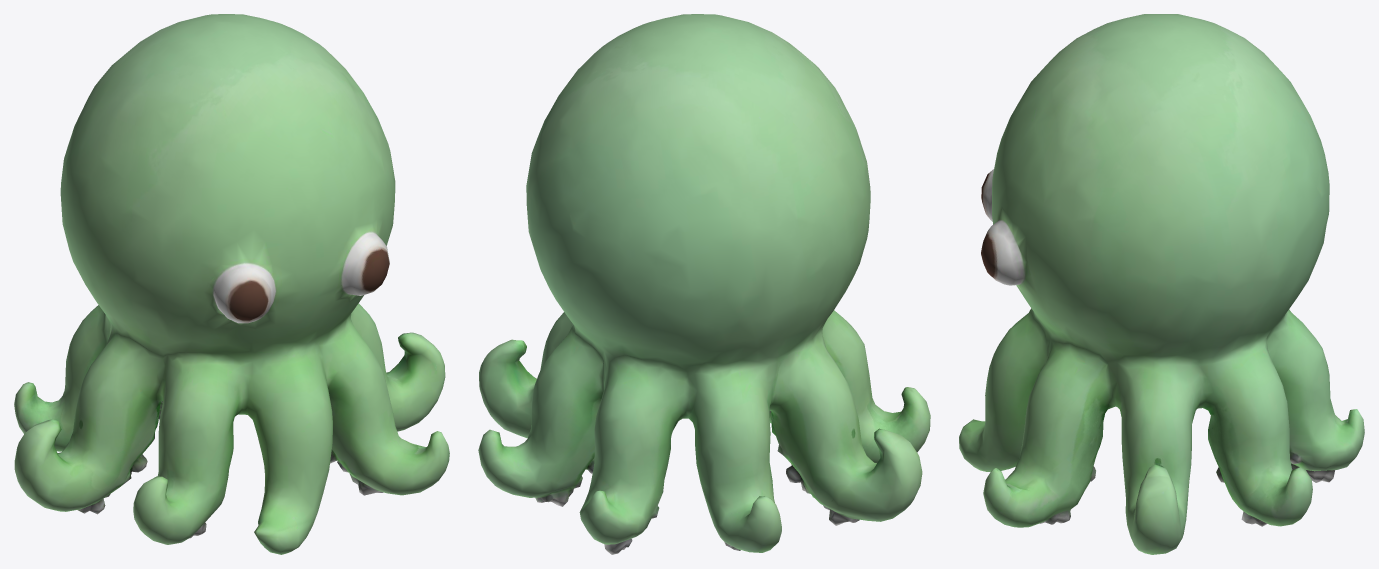
The model's file is Octopus_Funko_1111184941_texture.fbx.
The picture shows the model from 3 angles, left to right: view 1: azimuth 30°, elevation 25°; view 2: azimuth 150°, elevation 25°; view 3: azimuth 270°, elevation 25°; orthographic projection. The views are drawn at different scales.
Parts seen in each view (by area): view 1: Mesh1.0; view 2: Mesh1.0; view 3: Mesh1.0.
Boxes of the visible parts, left/top/right/bottom form: Mesh1.0: left=14, top=14, right=449, bottom=554; Mesh1.0: left=478, top=14, right=930, bottom=554; Mesh1.0: left=959, top=14, right=1364, bottom=554.
Size of the model in its own units: 187 by 191 by 155.
Materials: 1 (1 with a texture image).
